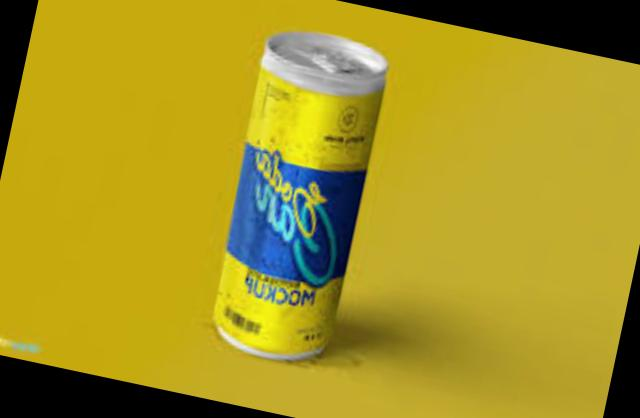metal: (218, 29, 390, 354)
